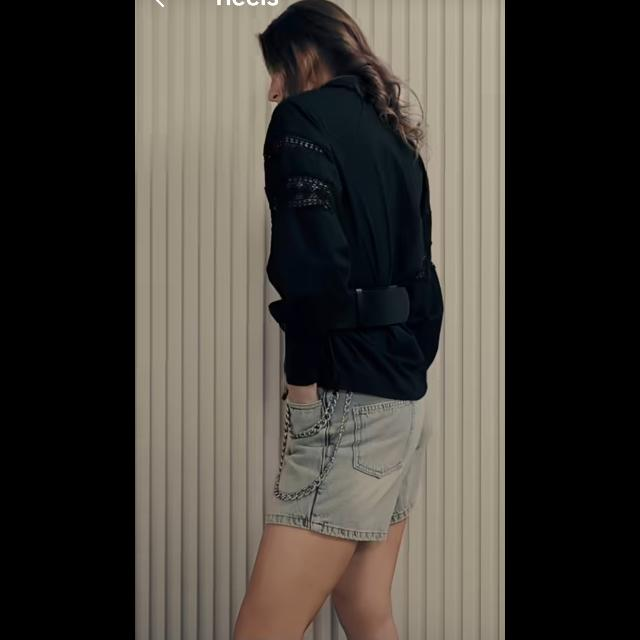bottom: (274, 384, 408, 576)
top: (266, 96, 439, 400)
